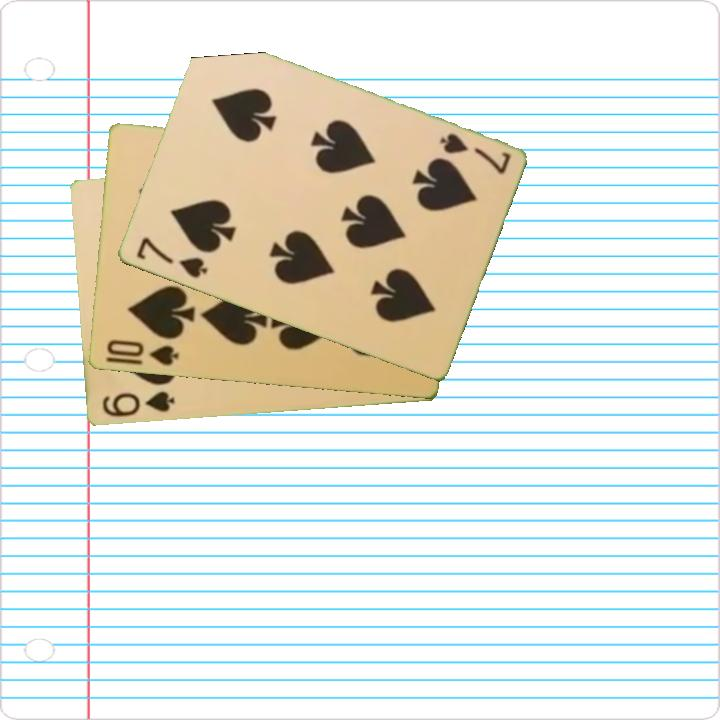10s: (102, 336, 181, 369)
6s: (98, 388, 177, 420)
7s: (132, 234, 210, 282), (435, 129, 513, 177)
